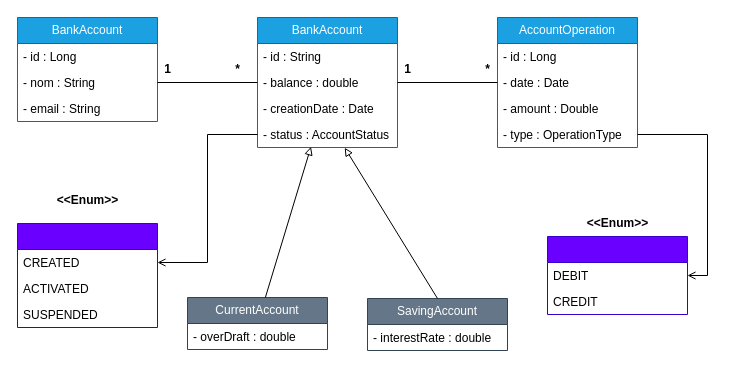
The diagram is 733 pixels wide and 371 high, and some of its shapes have lost their labels. Here are the shapes that lost their labels. From the top down, the box of each, then its label:
(16, 222, 158, 328): AccountStatus
(546, 236, 688, 314): OperationType
